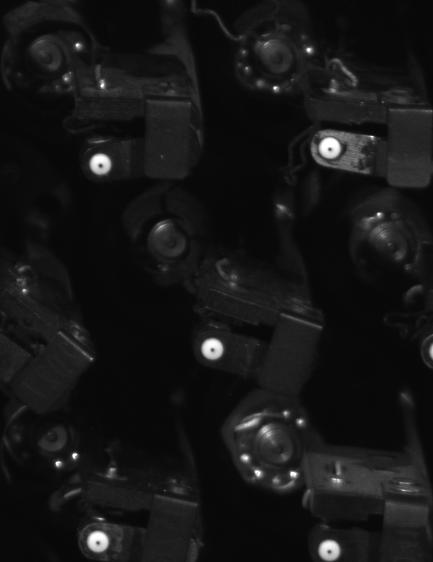fiber: (315, 134, 348, 164), (82, 528, 116, 557), (197, 334, 226, 365), (315, 534, 344, 562), (88, 151, 113, 178)
